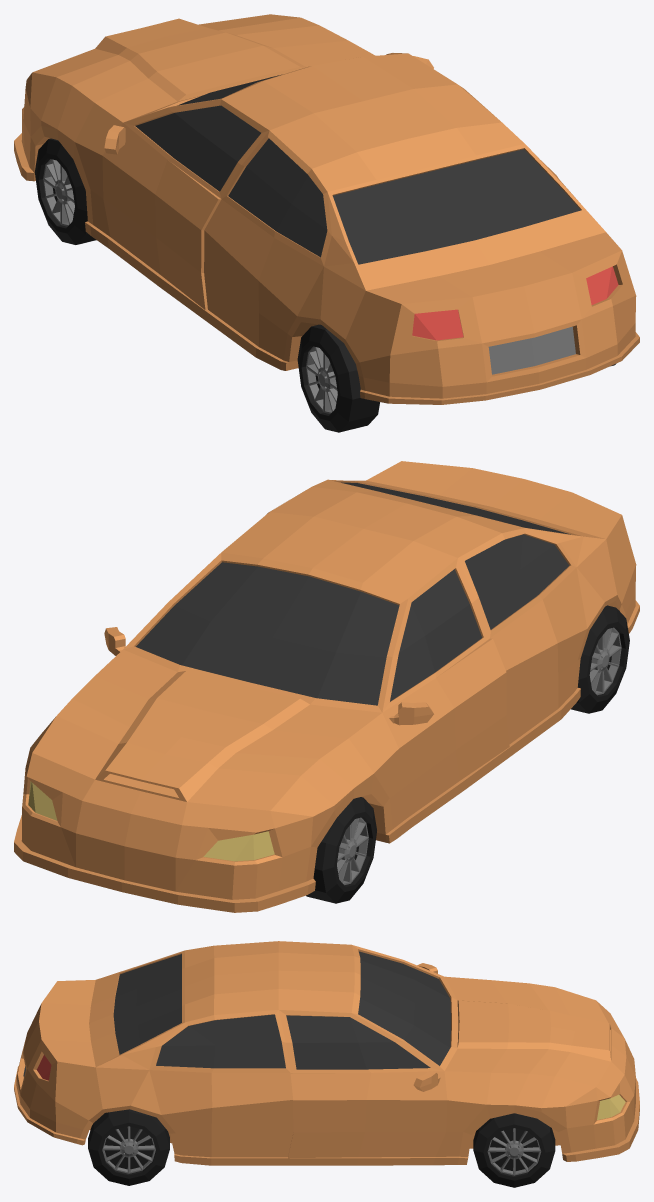
Rendered from sportscar.glb.
3 renders of one model, top to bottom at view 1: azimuth 30°, elevation 25°; view 2: azimuth 150°, elevation 25°; view 3: azimuth 270°, elevation 25°, orthographic. The views are drawn at different scales.
Parts seen in each view (by area): view 1: SportsCar, SportsCar_BackWheels, SportsCar_FrontLeftWheel; view 2: SportsCar, SportsCar_FrontLeftWheel, SportsCar_BackWheels; view 3: SportsCar, SportsCar_BackWheels, SportsCar_FrontRightWheel.
Boxes of the visible parts, x1,y1,x2,y2 form: SportsCar: [14, 14, 639, 404]; SportsCar_BackWheels: [297, 324, 616, 432]; SportsCar_FrontLeftWheel: [34, 138, 96, 244]; SportsCar: [14, 461, 639, 912]; SportsCar_FrontLeftWheel: [306, 797, 376, 903]; SportsCar_BackWheels: [571, 605, 629, 713]; SportsCar: [14, 941, 639, 1165]; SportsCar_BackWheels: [88, 1109, 169, 1185]; SportsCar_FrontRightWheel: [473, 1113, 555, 1187].
Size of the model in its own units: 1.8 by 1.16 by 3.97.
